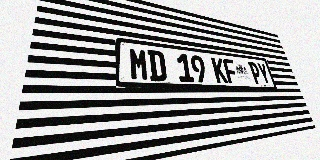1: (175, 53, 194, 82)
9: (190, 55, 208, 83)
D: (147, 50, 167, 81)
F: (222, 59, 239, 84)
K: (211, 57, 228, 83)
M: (129, 47, 149, 81)
P: (248, 62, 263, 84)
Y: (256, 63, 272, 85)
